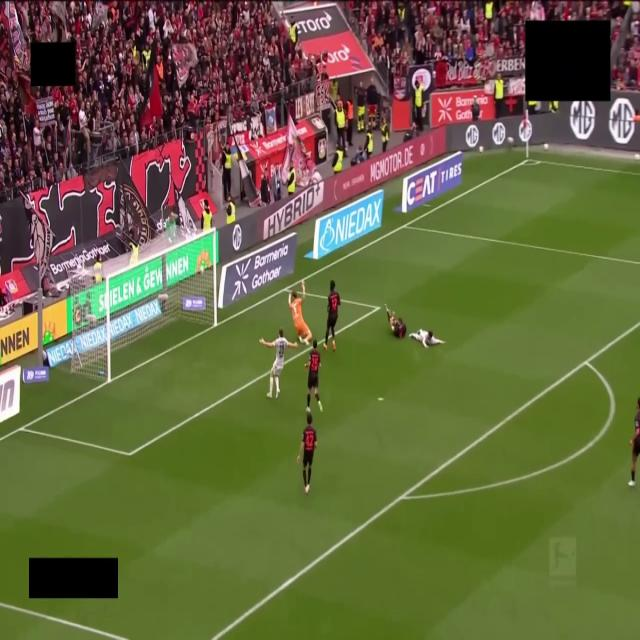ball: (158, 293, 168, 300)
player: (260, 328, 297, 398), (297, 414, 317, 493), (289, 280, 311, 344), (305, 340, 322, 413), (324, 280, 340, 351), (629, 398, 639, 487), (386, 306, 406, 338), (410, 329, 444, 347)
